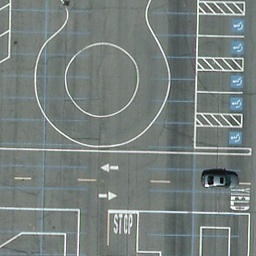car: (203, 174, 240, 188)
